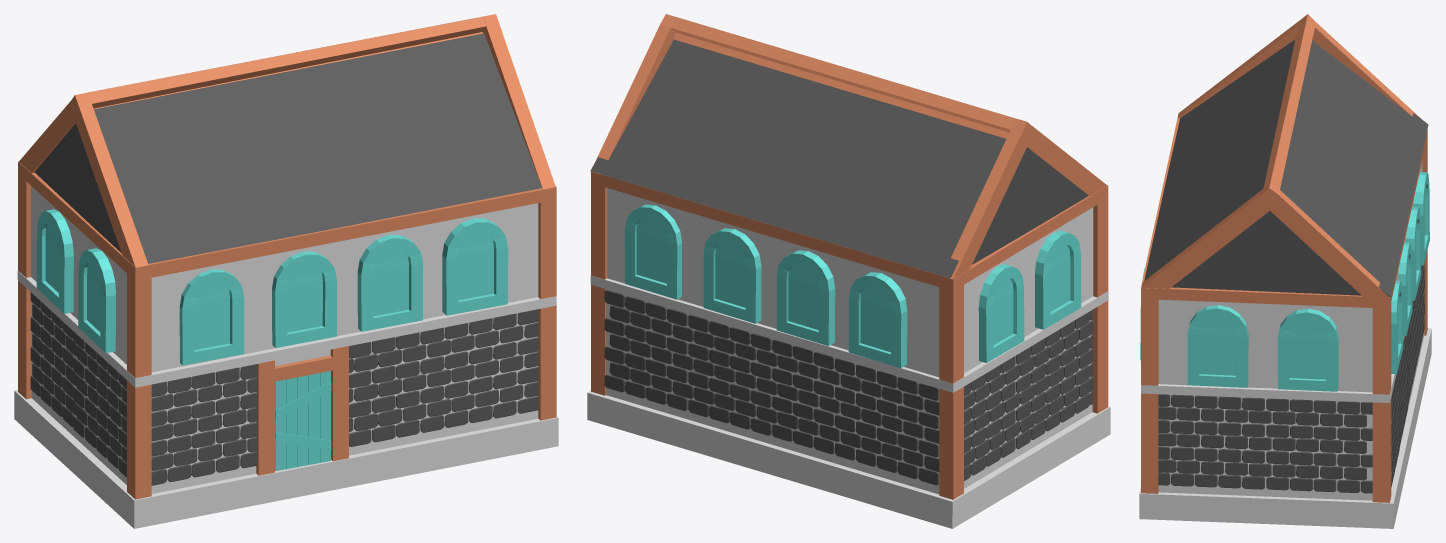
File: VillageBuilding.fbx
3 views of the same model, side by side, from view 1: azimuth 30°, elevation 25°; view 2: azimuth 150°, elevation 25°; view 3: azimuth 270°, elevation 25° (orthographic). The views are drawn at different scales.
Parts seen in each view (by area): view 1: Cube.014; view 2: Cube.014; view 3: Cube.014.
Boxes of the visible parts, <box> form: Cube.014: <box>14,14,558,528</box>; Cube.014: <box>587,14,1110,528</box>; Cube.014: <box>1139,14,1431,528</box>.
Bounding box in the file's own units: 882 × 746 × 589.
